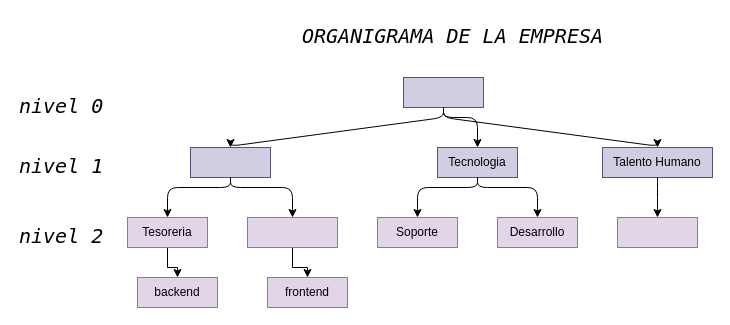
Image size: 730x325. Some labels were removed from this diagram. Each missing label, with the centre of its shape:
Contabilidad: point (292, 232)
Empresa: point (443, 92)
Finanzas: point (230, 162)
Seleccion: point (657, 232)
